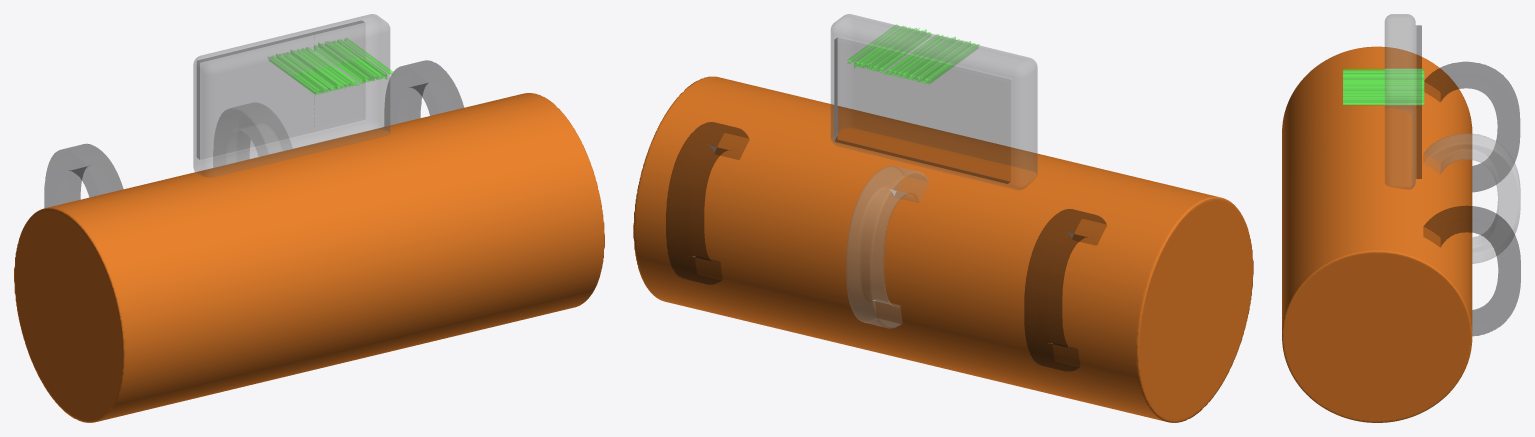
The picture shows the model from 3 angles, left to right: view 1: azimuth 30°, elevation 25°; view 2: azimuth 150°, elevation 25°; view 3: azimuth 270°, elevation 25°; orthographic projection. The views are drawn at different scales.
Parts seen in each view (by area): view 1: Area (2) (×2), Area (1) (×2); view 2: Area (2) (×2), Area (1) (×2); view 3: Area (2) (×2), Area (1) (×2).
Boxes of the visible parts, x1,y1,x2,y2 form: Area (2) (×2): (14, 38, 604, 422); Area (1) (×2): (44, 14, 463, 207); Area (2) (×2): (633, 24, 1253, 422); Area (1) (×2): (666, 14, 1106, 371); Area (2) (×2): (1282, 46, 1472, 422); Area (1) (×2): (1385, 14, 1520, 335).
Size of the model in its own units: 118 by 73 by 58.63.
4 materials, 4 textured.
